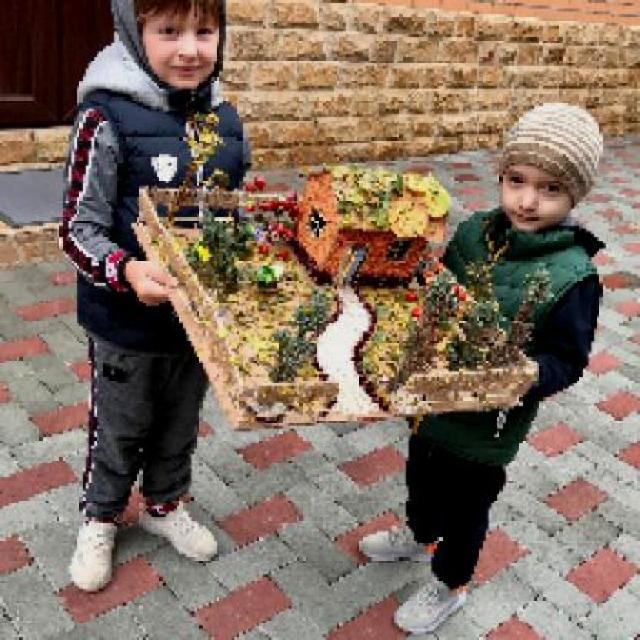child: (358, 99, 608, 635)
